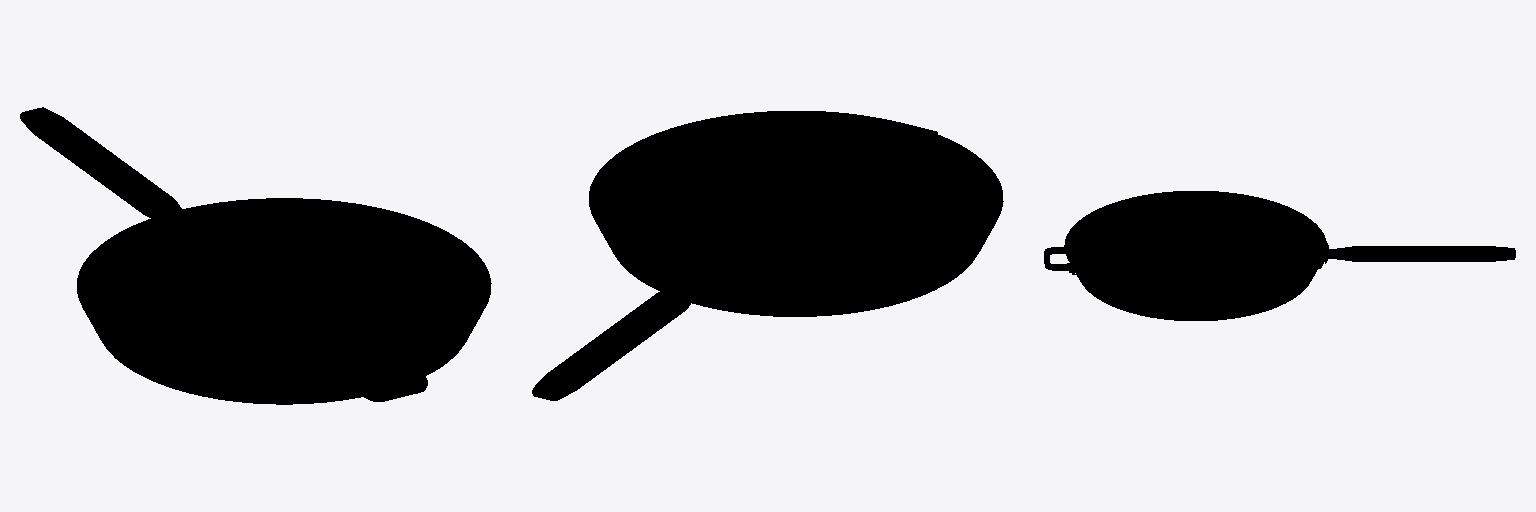
URDF robot description (pan):
<?xml version="1.0" ?>
<robot name="pan">
  <link name="baseLink">
    <contact>
      <lateral_friction value="1.0"/>
      <rolling_friction value="0.0"/>
      <contact_cfm value="0.0"/>
      <contact_erp value="1.0"/>
    </contact>
    <inertial>
      <origin rpy="0 0 0" xyz="0.0225 0.000 0.0047"/>
       <mass value="0.150"/>
       <inertia ixx="0.00012333" ixy="-0.0" ixz="-0.0" iyy="0.00005145" iyz="0.00000007" izz="0.00012910"/>
    </inertial>
    <visual>
      <origin rpy="0 0 0" xyz="0.0225 0.000 0.0047"/>
      <geometry>
        <mesh filename="../obj/pan.obj" scale="0.001 0.001 0.001"/>
      </geometry>
       <material name="black">
        <color rgba="0 0 0 1"/>
      </material>
    </visual>
    <collision concave="yes">
      <origin rpy="0 0 0" xyz="0.0225 0.000 0.0047"/>
      <geometry>
	 	<mesh filename="../obj/pan.obj" scale="0.001 0.001 0.001"/>
      </geometry>
    </collision>
  </link>
</robot>

--- Facts derived from the render (not from the file) ---
Views: 3 orthographic renders of the robot side by side, from view 1: azimuth 30°, elevation 25°; view 2: azimuth 150°, elevation 25°; view 3: azimuth 270°, elevation 25°.
Robot: pan — 1 links, 0 joints (none); root link baseLink; default pose: every joint at zero.
Visible links, largest first — view 1: baseLink; view 2: baseLink; view 3: baseLink.
Boxes of the visible links, x1,y1,x2,y2 form: baseLink: [20, 107, 491, 404]; baseLink: [532, 111, 1003, 400]; baseLink: [1044, 191, 1515, 320].
Size in the robot's own frame: 0.2767 by 0.4959 by 0.0311 metres.
Meshes: 1 distinct files referenced, 1 mesh visuals loaded (1 OBJ).
